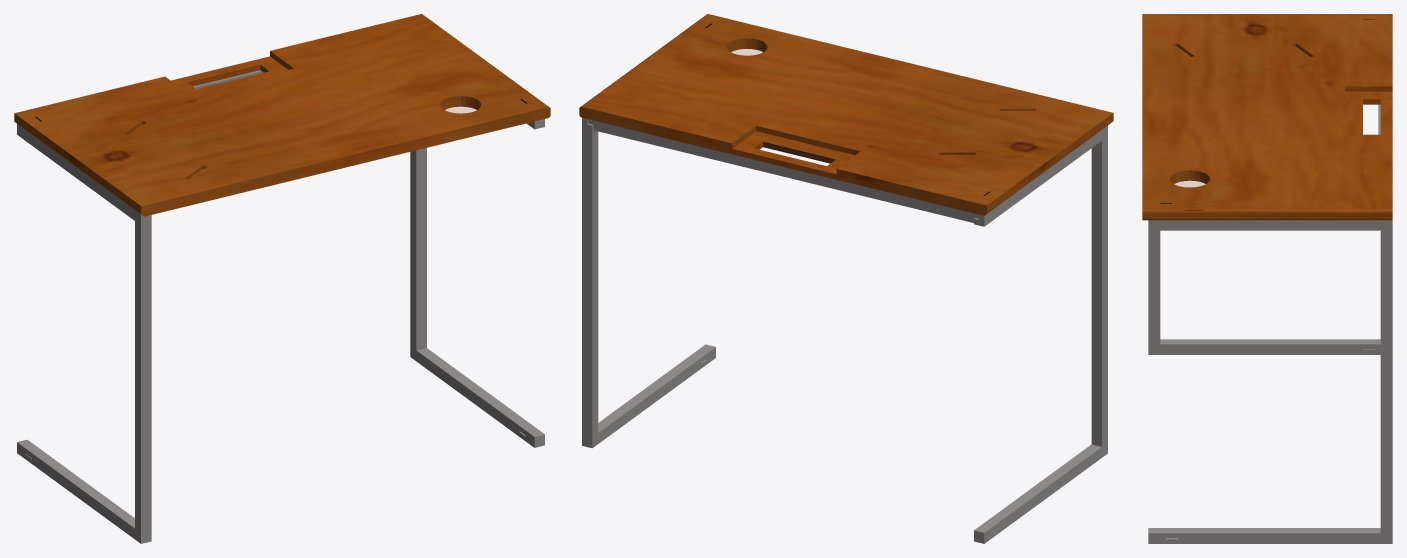
3 views of the same model, side by side, from view 1: azimuth 30°, elevation 25°; view 2: azimuth 150°, elevation 25°; view 3: azimuth 270°, elevation 25° (orthographic).
Parts seen in each view (by area): view 1: Root Node, Framing v2, right leg v1; view 2: Root Node, Framing v2, right leg v1, cross v1; view 3: Root Node, right leg v1, Framing v2.
Part boxes in pixels (x1,y1,x2,y2): Root Node: [14, 14, 550, 216]; Framing v2: [17, 124, 151, 543]; right leg v1: [410, 119, 544, 447]; Root Node: [579, 14, 1113, 215]; Framing v2: [974, 125, 1107, 543]; right leg v1: [582, 118, 715, 448]; cross v1: [588, 119, 978, 222]; Root Node: [1142, 14, 1392, 220]; right leg v1: [1148, 220, 1392, 543]; Framing v2: [1148, 230, 1380, 354].
Bounding box in the file's own units: 0.9906 × 0.7874 × 0.5334.
Materials: 597 (97 with a texture image).
